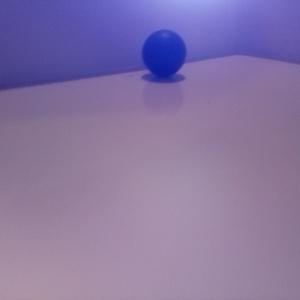dead_ball: (142, 29, 186, 76)
